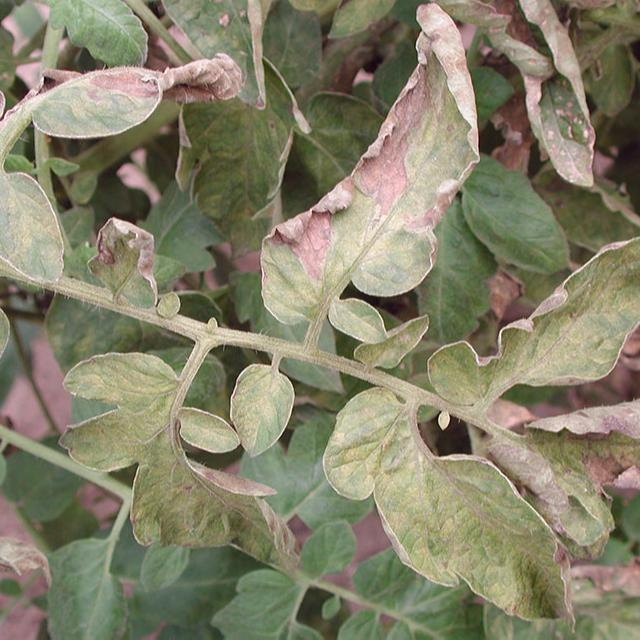Tomato mold leaf: (255, 0, 485, 328), (320, 380, 578, 628), (423, 220, 640, 409), (0, 41, 239, 173), (0, 169, 76, 293), (216, 359, 298, 459), (87, 215, 165, 315), (159, 404, 245, 458)
